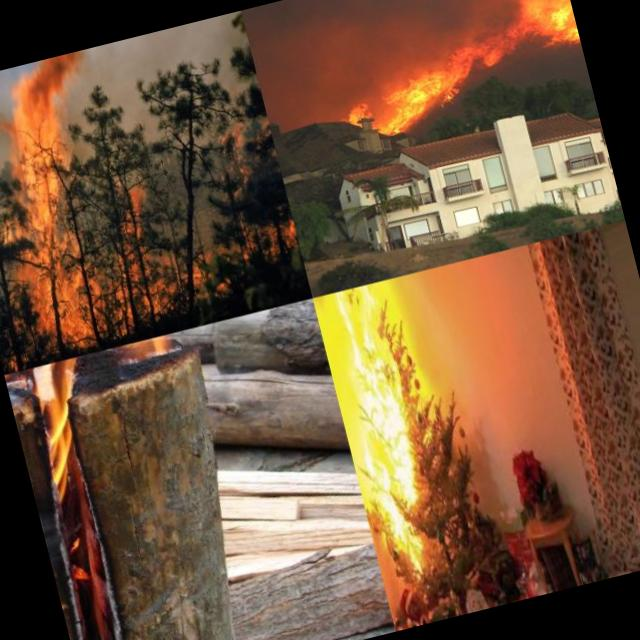fire: (312, 282, 450, 590), (4, 328, 221, 495), (6, 152, 100, 352), (0, 50, 101, 158), (84, 252, 208, 338), (362, 51, 464, 140), (511, 0, 581, 55), (448, 32, 529, 78), (114, 173, 155, 239), (338, 95, 373, 135)
smoke: (240, 0, 365, 116), (338, 0, 530, 71)
